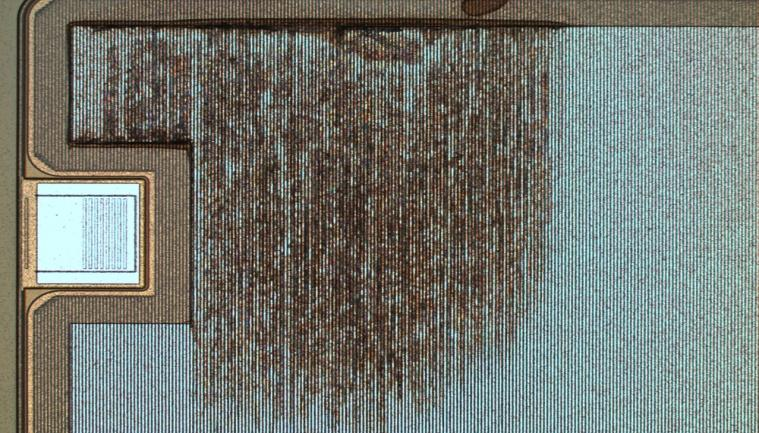SEZ BURNT: (70, 25, 575, 433)
